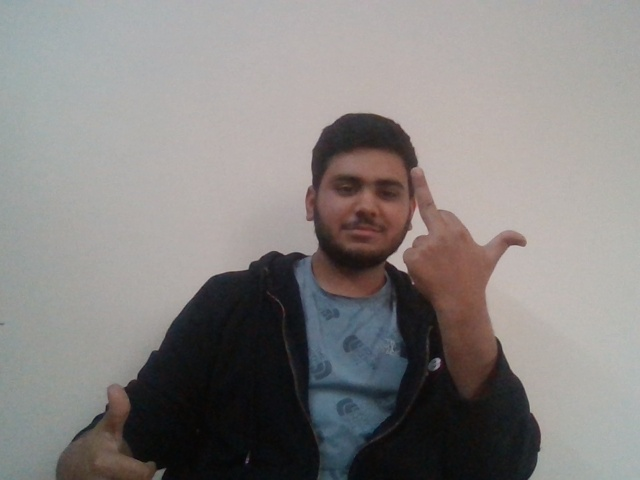Hello: (401, 162, 532, 304)
